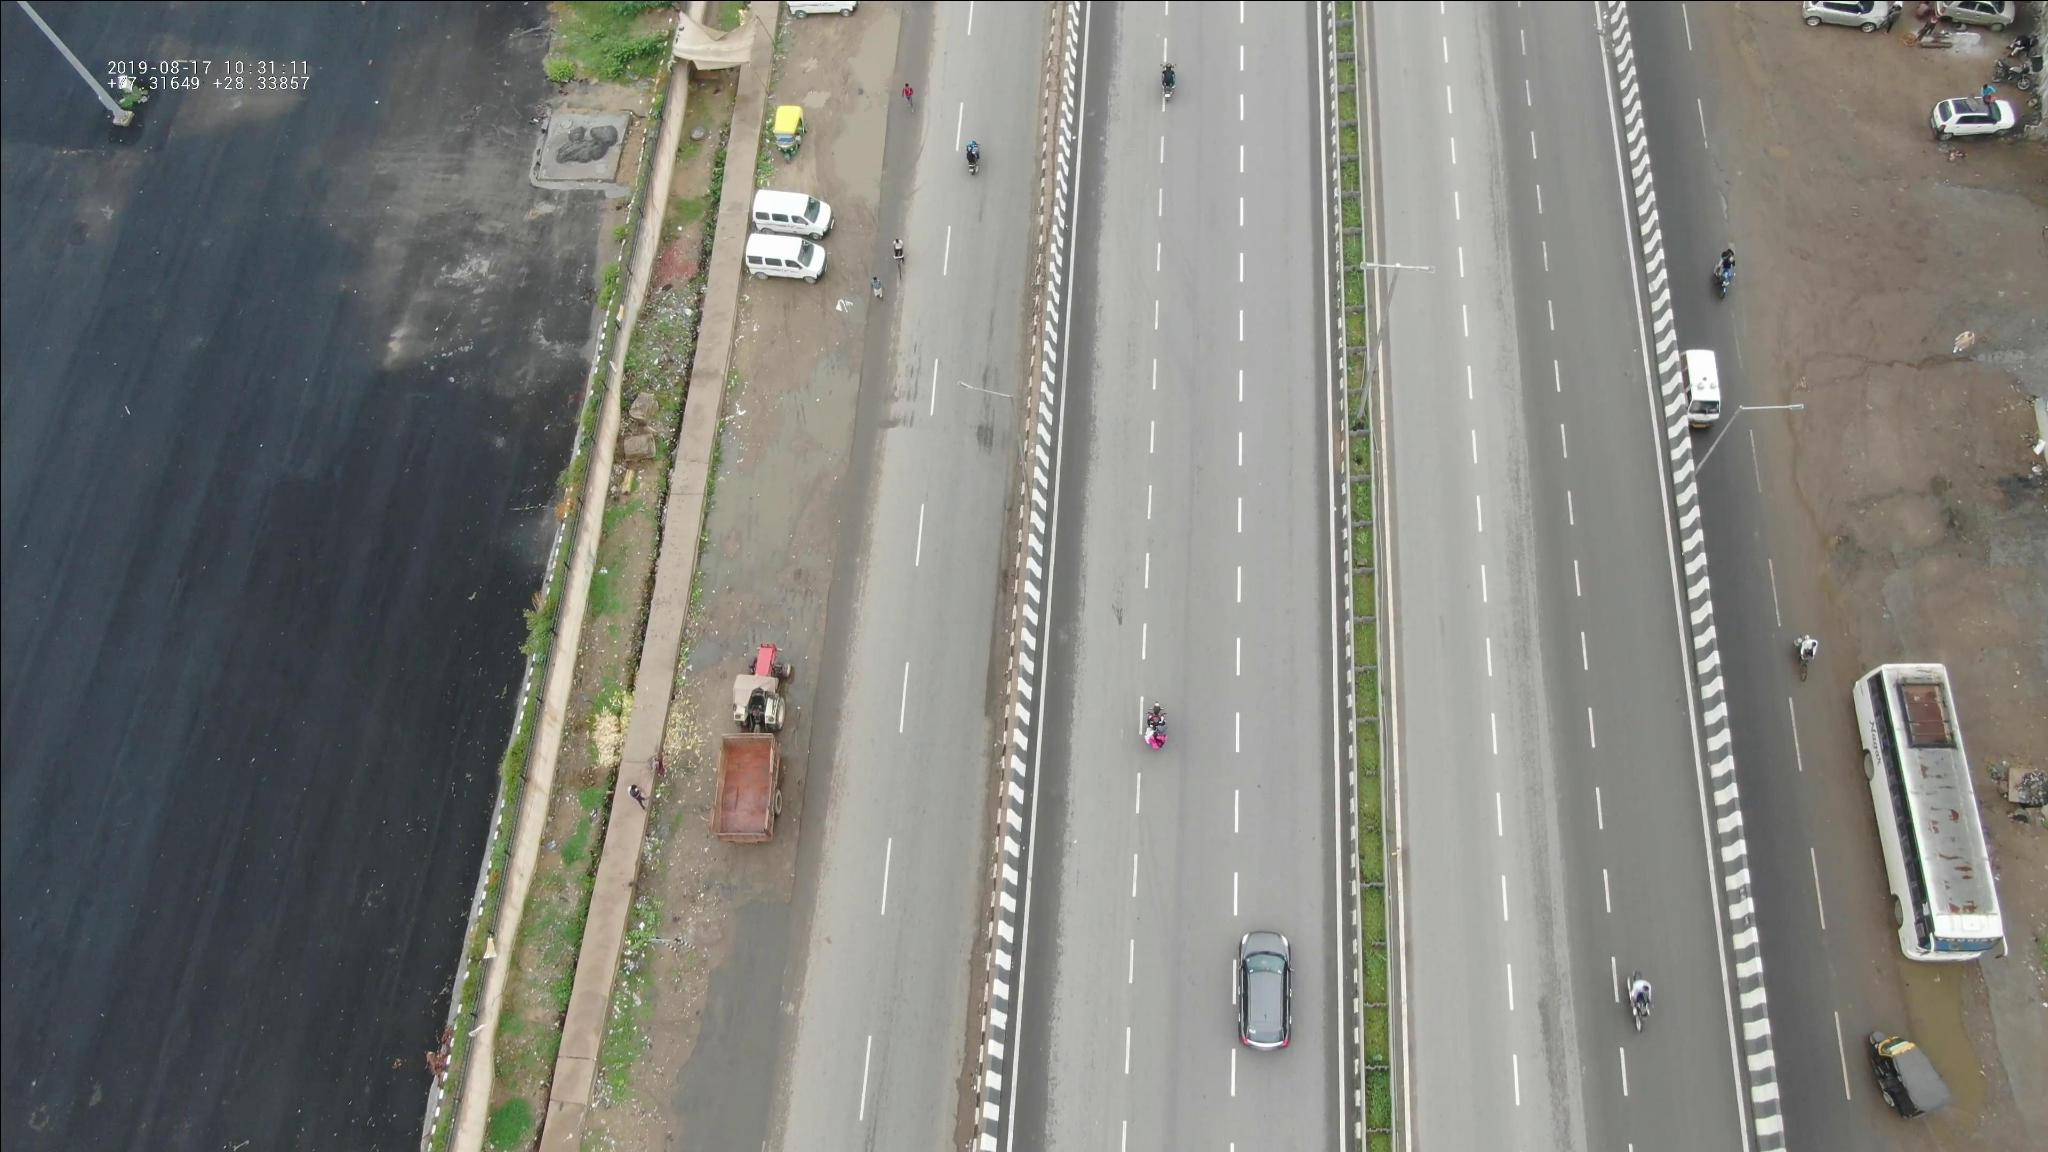Waterlogging: (693, 338, 866, 594), (813, 8, 913, 190)
